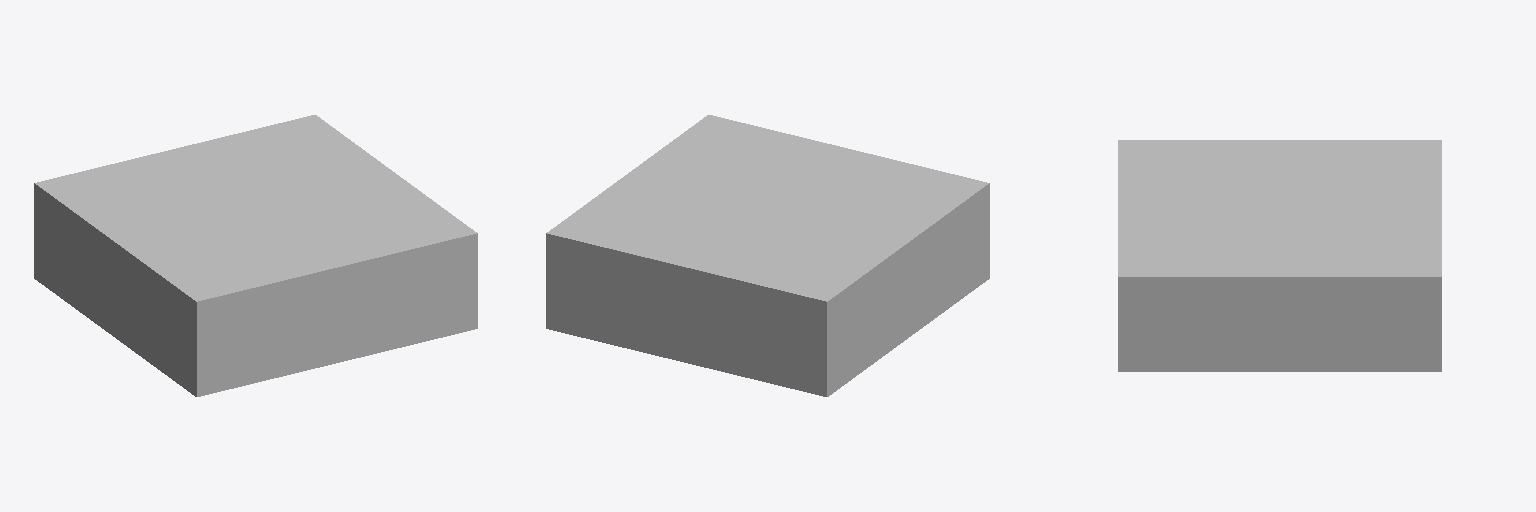
Rendered from Grass.vox.obj.
3 renders of one model, left to right at view 1: azimuth 30°, elevation 25°; view 2: azimuth 150°, elevation 25°; view 3: azimuth 270°, elevation 25°, orthographic.
Parts seen in each view (by area): view 1: object 1; view 2: object 1; view 3: object 1.
Part boxes in pixels (bbox=[...]): object 1: bbox=[34, 115, 477, 396]; object 1: bbox=[546, 115, 989, 396]; object 1: bbox=[1118, 140, 1441, 371].
Size of the model in its own units: 4 by 1.3 by 4.